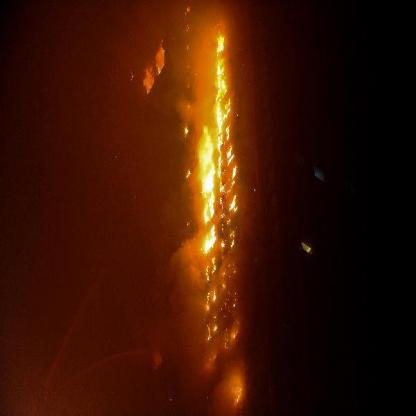fire: (181, 15, 247, 345), (137, 42, 175, 94)
